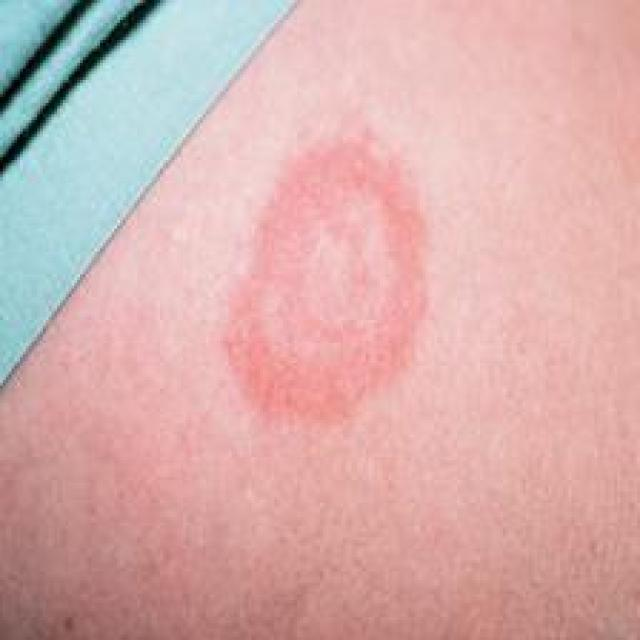kene: (207, 86, 474, 485)
